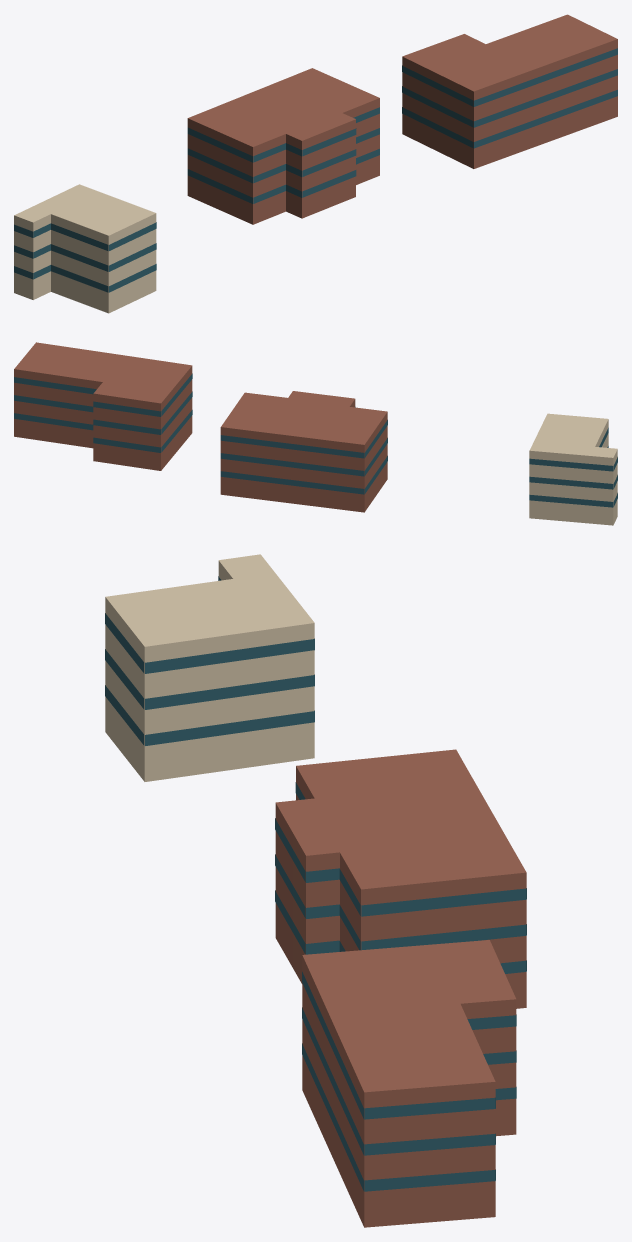
The model's file is city_4_3.glb.
3 views of the same model, one above another, from view 1: azimuth 30°, elevation 25°; view 2: azimuth 150°, elevation 25°; view 3: azimuth 270°, elevation 25° (orthographic). The views are drawn at different scales.
Parts seen in each view (by area): view 1: city_4_3; view 2: city_4_3; view 3: city_4_3.
Part boxes in pixels (x1,y1,x2,y2): city_4_3: [14, 14, 617, 313]; city_4_3: [14, 342, 617, 525]; city_4_3: [105, 554, 526, 1227].
Bounding box in the file's own units: 128 × 15 × 42.4.
